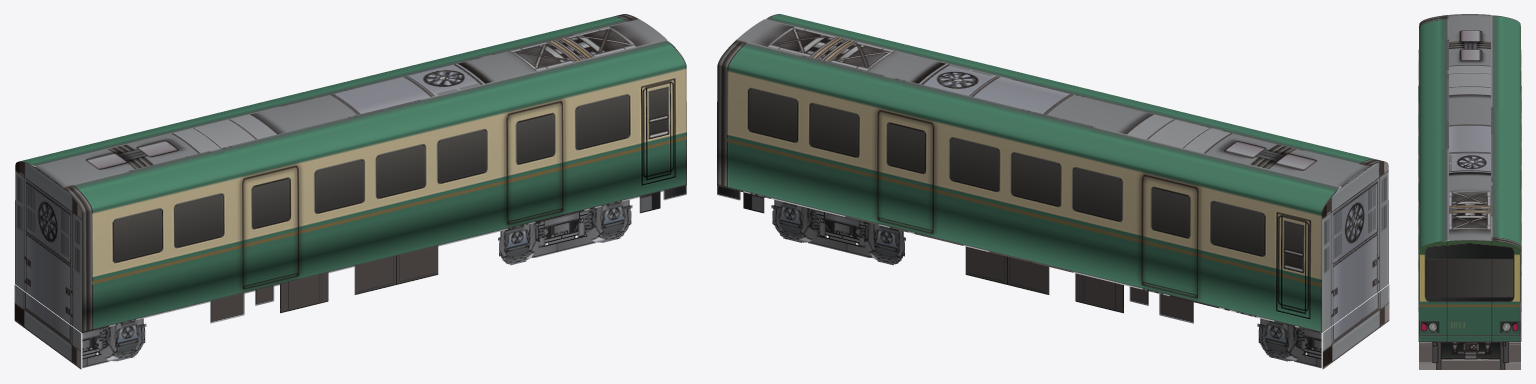
Rendered from car2.glb.
3 views of the same model, side by side, from view 1: azimuth 30°, elevation 25°; view 2: azimuth 150°, elevation 25°; view 3: azimuth 270°, elevation 25° (orthographic). The views are drawn at different scales.
Parts seen in each view (by area): view 1: enoden-1000-car2; view 2: enoden-1000-car2; view 3: enoden-1000-car2.
Boxes of the visible parts, left/top/right/bottom form: enoden-1000-car2: left=14, top=14, right=686, bottom=369; enoden-1000-car2: left=717, top=14, right=1389, bottom=369; enoden-1000-car2: left=1418, top=14, right=1521, bottom=369.
Size of the model in its own units: 12.73 by 3.4 by 2.45.
Materials: 8 (7 with a texture image).
